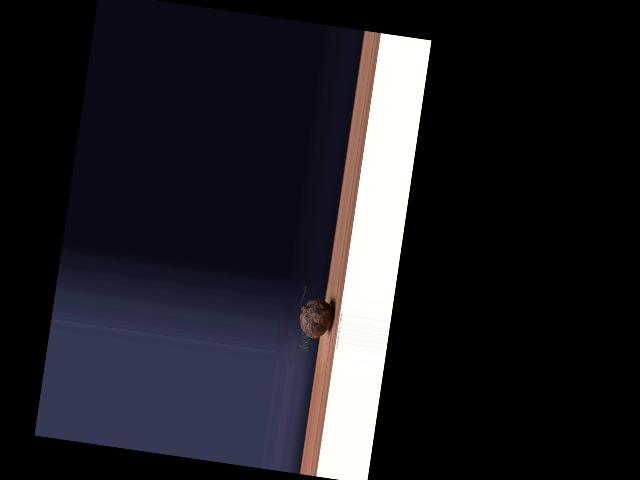beet: (296, 285, 337, 340)
